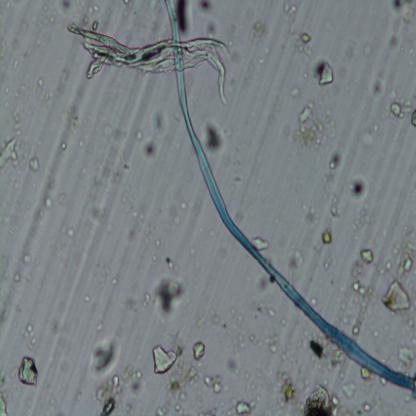Background material: (155, 361, 222, 414), (96, 366, 143, 414), (294, 97, 335, 147), (282, 0, 314, 60), (102, 123, 130, 187), (148, 274, 184, 321), (307, 330, 344, 374), (88, 334, 122, 377), (243, 330, 286, 362), (301, 380, 340, 415), (145, 100, 166, 164), (382, 274, 415, 313), (177, 0, 213, 33), (351, 249, 375, 297), (200, 116, 228, 156), (320, 147, 343, 194), (387, 94, 416, 130), (149, 342, 178, 377), (391, 240, 416, 275), (276, 369, 299, 407), (312, 54, 336, 88), (17, 354, 41, 388), (0, 134, 21, 171), (387, 0, 416, 23), (63, 96, 80, 134), (349, 171, 369, 203), (252, 300, 278, 324), (80, 2, 102, 30), (286, 248, 306, 278), (0, 367, 12, 415), (247, 20, 268, 45), (233, 396, 259, 415), (395, 344, 416, 367), (340, 378, 358, 403), (371, 74, 386, 99), (24, 324, 37, 350), (252, 233, 269, 252), (321, 223, 335, 244), (191, 341, 206, 360), (28, 156, 39, 173), (288, 86, 302, 99), (44, 197, 55, 211), (58, 139, 67, 153), (22, 253, 33, 264), (37, 76, 45, 90)
Cellulose filter fibre: (66, 28, 232, 98)
Cotton: (165, 0, 416, 390)
